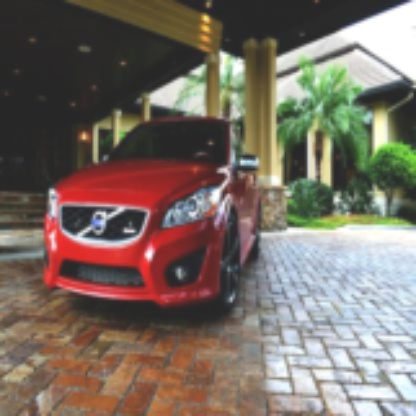Vehicle: (42, 111, 265, 319)
